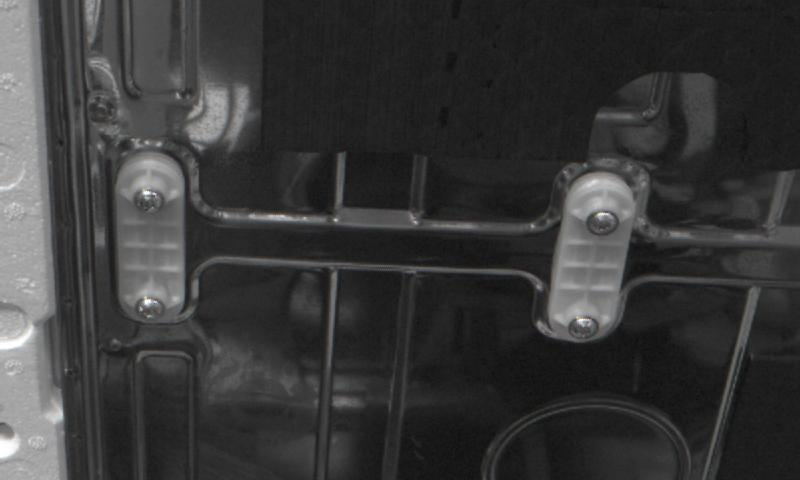vida-ok: (579, 204, 624, 243), (130, 183, 169, 223), (564, 308, 603, 347), (132, 292, 170, 327)
